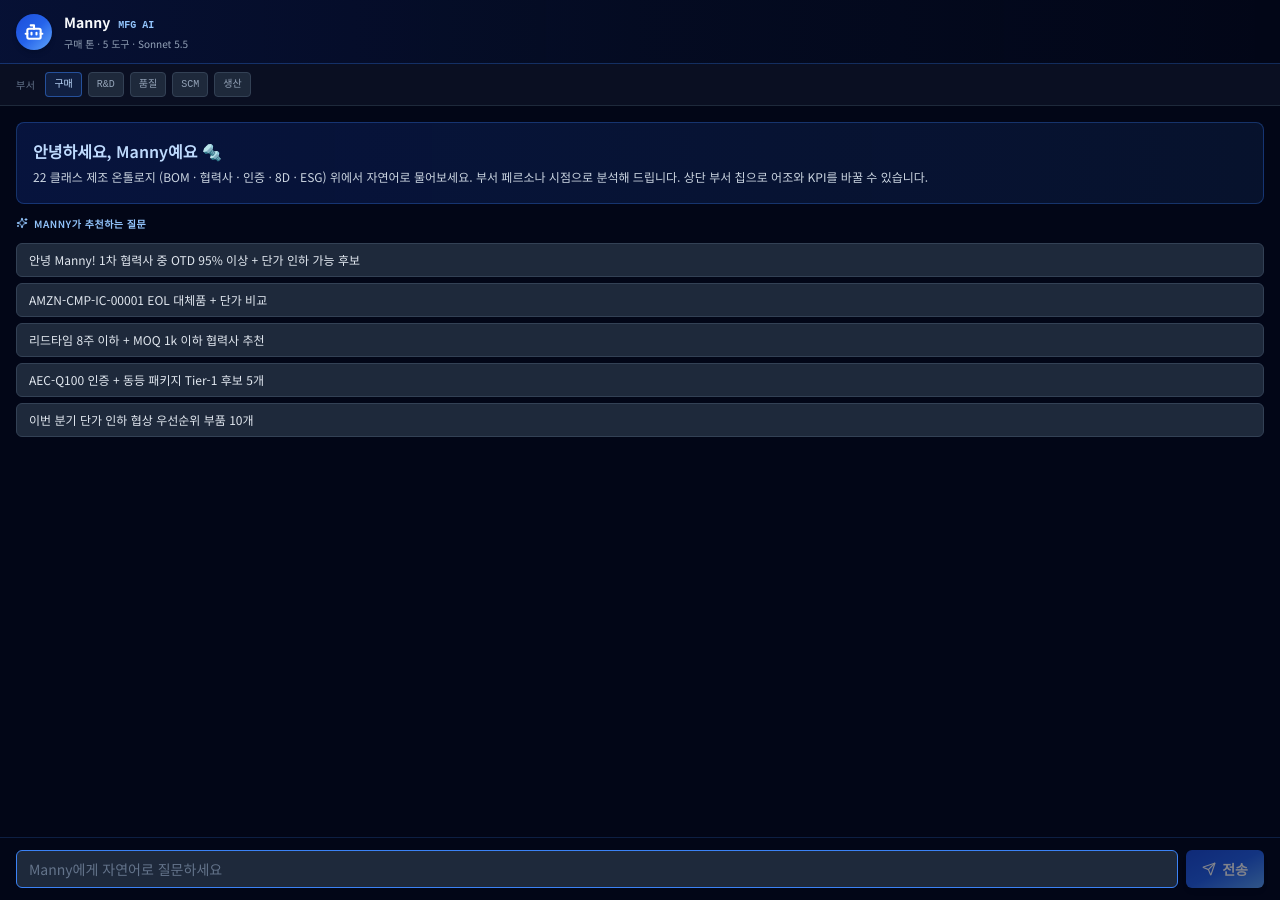
Test case: Manny popup page › renders `error` events and network drops
This screenshot has width=1280, height=900.
Click the button "AMZN-CMP-IC-00001 EOL 대체품 + 단가 비교" at (148, 299), box x1=16 y1=282 x2=1264 y2=316
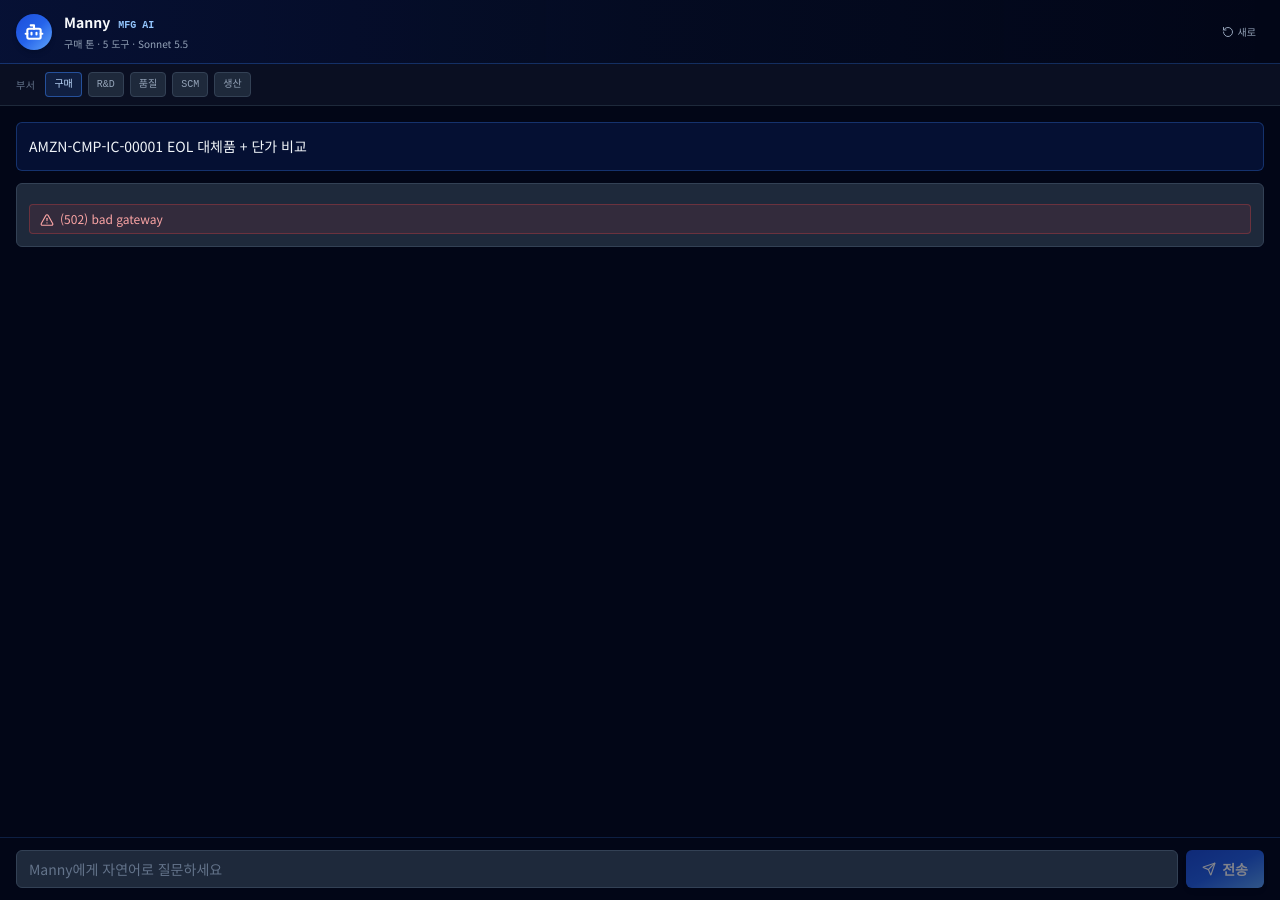
Now the text "(502) bad gateway" is shown, box x1=60 y1=211 x2=163 y2=227
Click the button "새로" at (1239, 32), box x1=1214 y1=20 x2=1264 y2=43
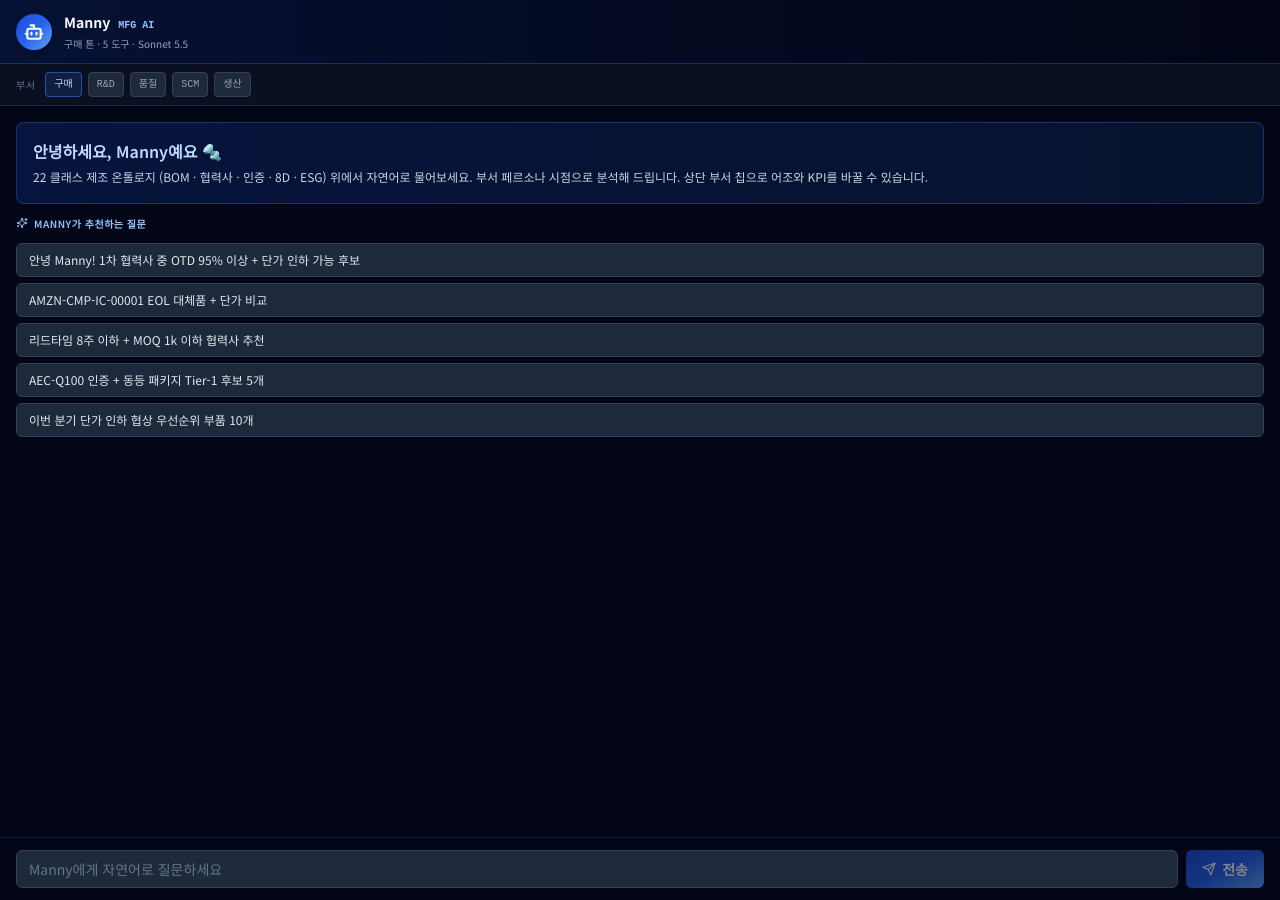
Click the button "AMZN-CMP-IC-00001 EOL 대체품 + 단가 비교" at (148, 299), box x1=16 y1=282 x2=1264 y2=316
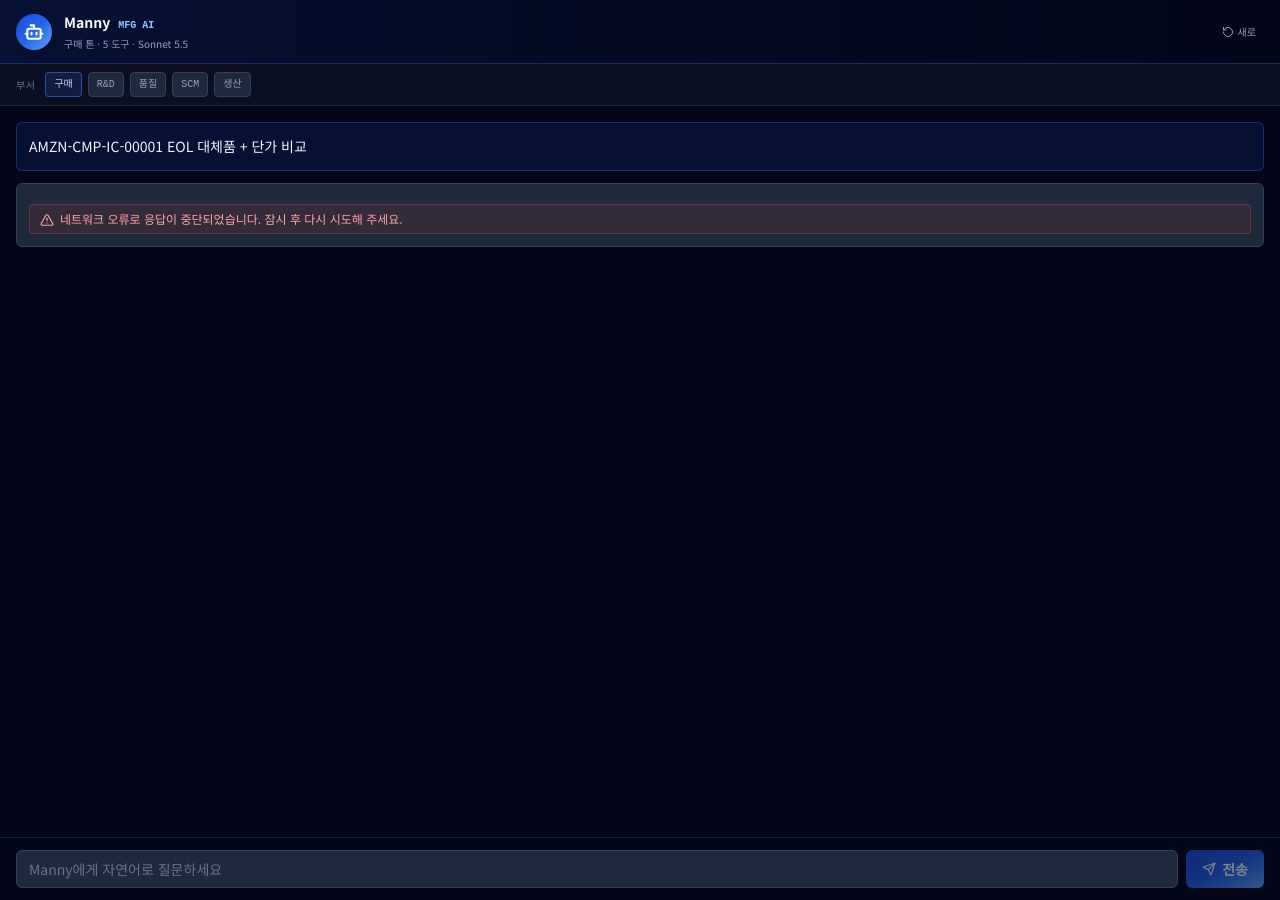
Now the text "네트워크 오류로 응답이 중단되었습니다. 잠시 후 다시 시도해 주세요." is shown, box x1=60 y1=211 x2=403 y2=227
